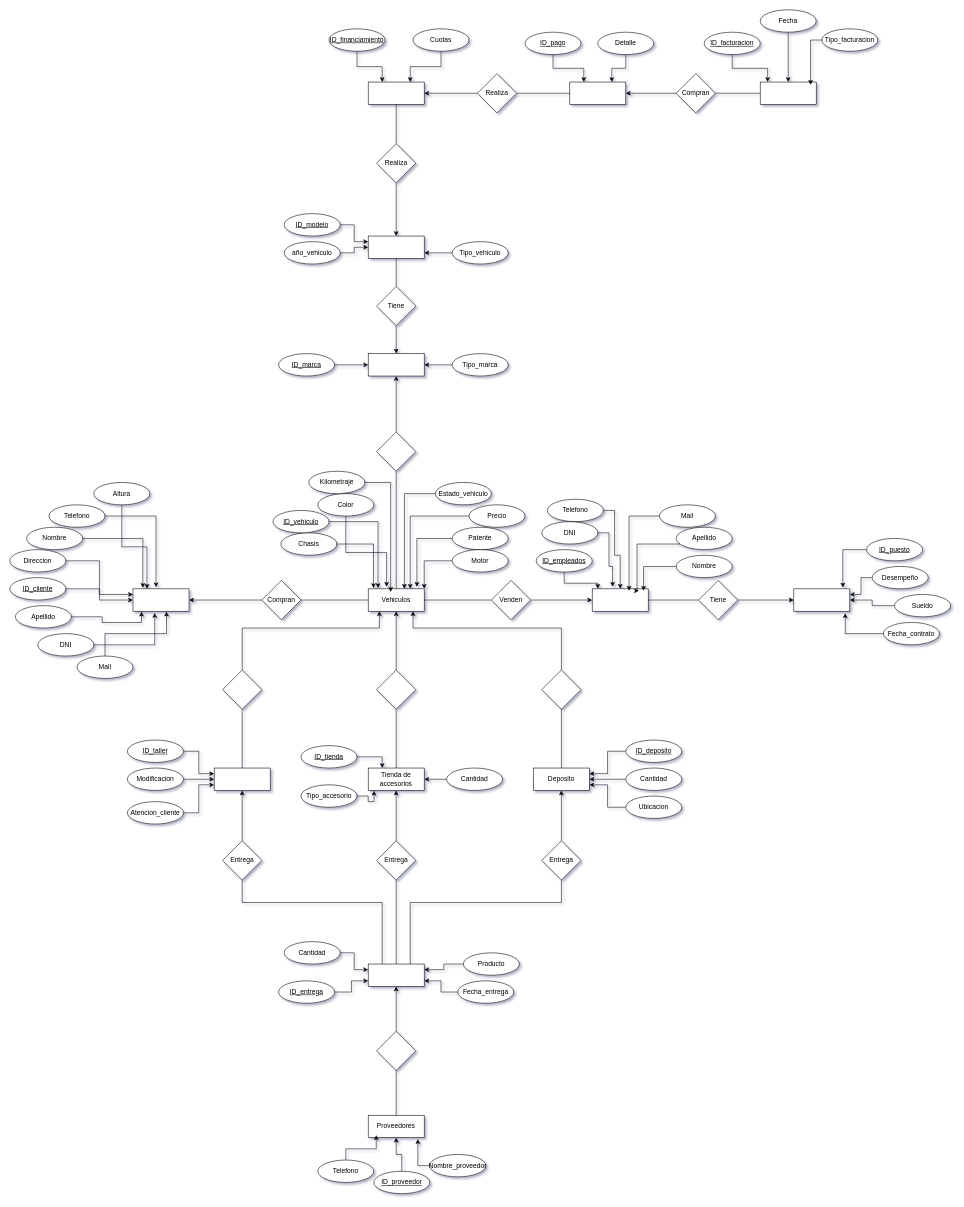
Some shapes in this 964 by 1207 pixel diagram are drawn without their labels. Each missing label, with the centre of its shape:
"Asisten" belongs at pixel 242 689.
"Añaden" belongs at pixel 396 689.
"Clientes" belongs at pixel 160 599.
"Empleados" belongs at pixel 620 599.
"Encuentran" belongs at pixel 561 689.
"Facturacion" belongs at pixel 788 92.
"Financiamiento" belongs at pixel 396 92.
"Marca" belongs at pixel 396 364.
"Metodo de pago" belongs at pixel 597 92.
"Modelo" belongs at pixel 396 246.
"Pedido" belongs at pixel 396 974.
"Posee" belongs at pixel 396 451.
"Puesto" belongs at pixel 821 599.
"Solicitan" belongs at pixel 396 1050.
"Taller" belongs at pixel 242 778.
